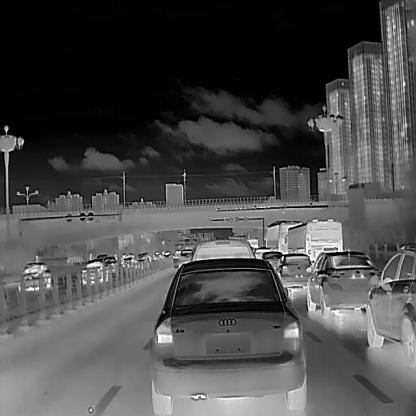bus: (283, 217, 342, 268), (262, 218, 304, 251)
car: (149, 257, 305, 414), (365, 245, 415, 368), (306, 249, 380, 317), (274, 253, 313, 289), (18, 262, 52, 290), (81, 259, 107, 282), (120, 254, 135, 268)
